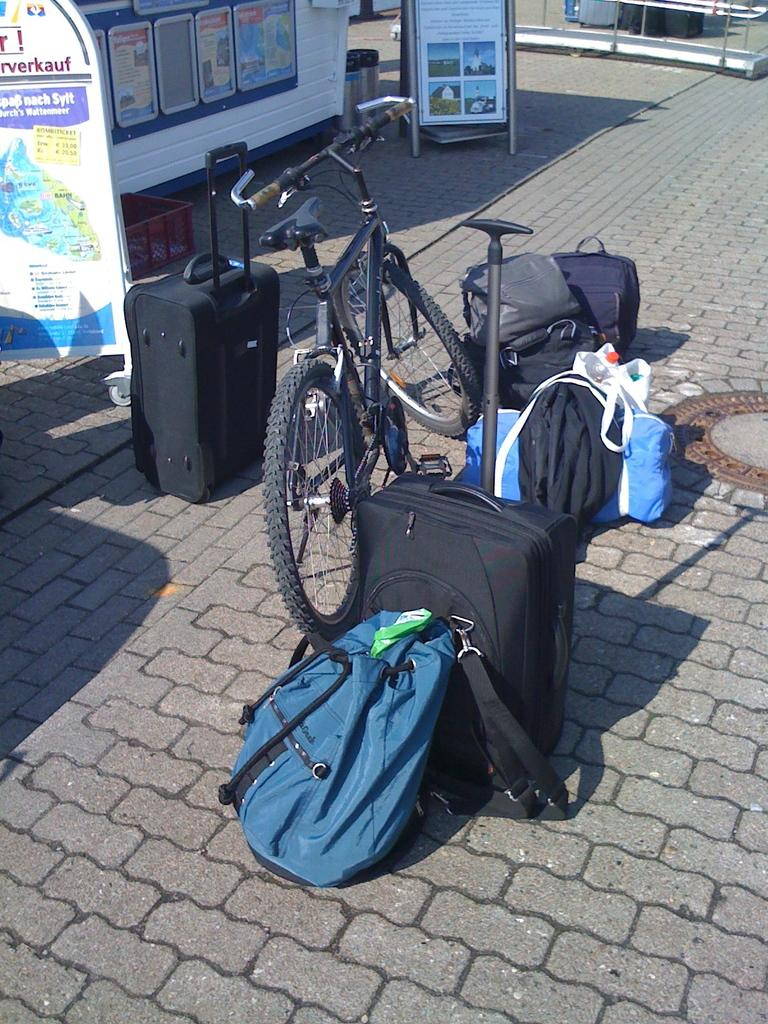Luggage-and-bags: (350, 218, 574, 821), (130, 147, 278, 506), (458, 368, 667, 525), (462, 247, 583, 361), (492, 317, 623, 410), (557, 233, 641, 350)
